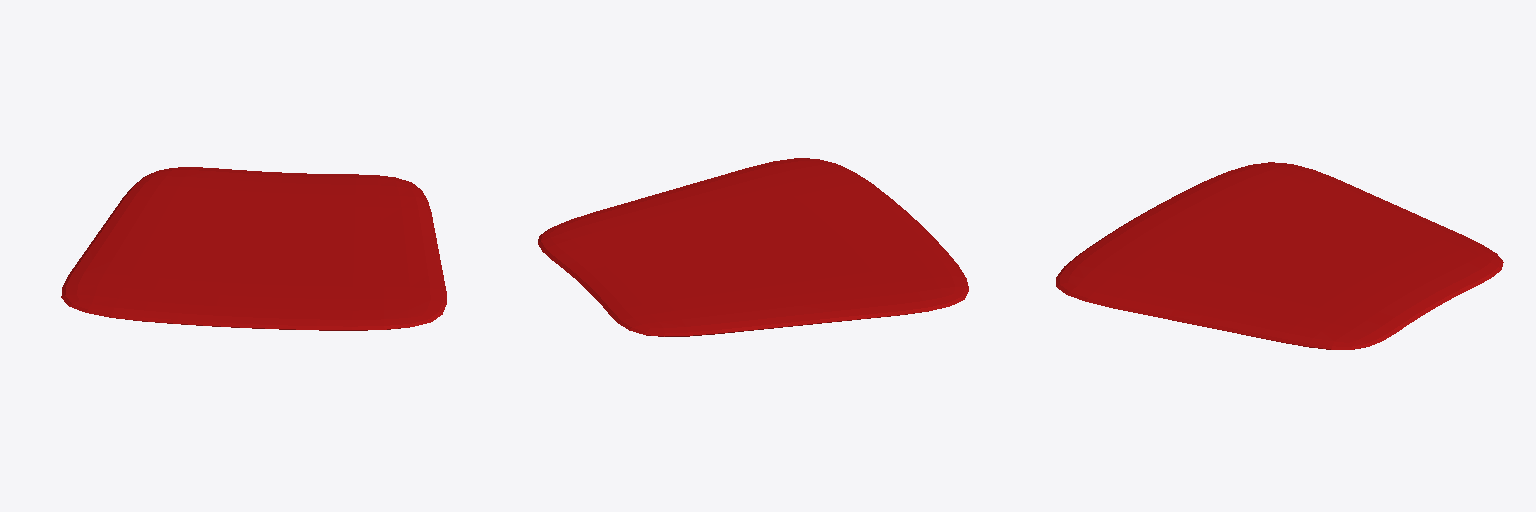
Rendered from terrain_panel_out_sw.obj.
The picture shows the model from 3 angles: view 1: azimuth 30°, elevation 25°; view 2: azimuth 150°, elevation 25°; view 3: azimuth 270°, elevation 25°; orthographic projection.
Visible parts, largest first — view 1: terrain_panel_out_sw; view 2: terrain_panel_out_sw; view 3: terrain_panel_out_sw.
Part boxes in pixels (bbox=[...]): terrain_panel_out_sw: bbox=[61, 167, 446, 330]; terrain_panel_out_sw: bbox=[538, 158, 968, 336]; terrain_panel_out_sw: bbox=[1056, 162, 1503, 349].
Size of the model in its own units: 88.38 by 2.5 by 89.09.